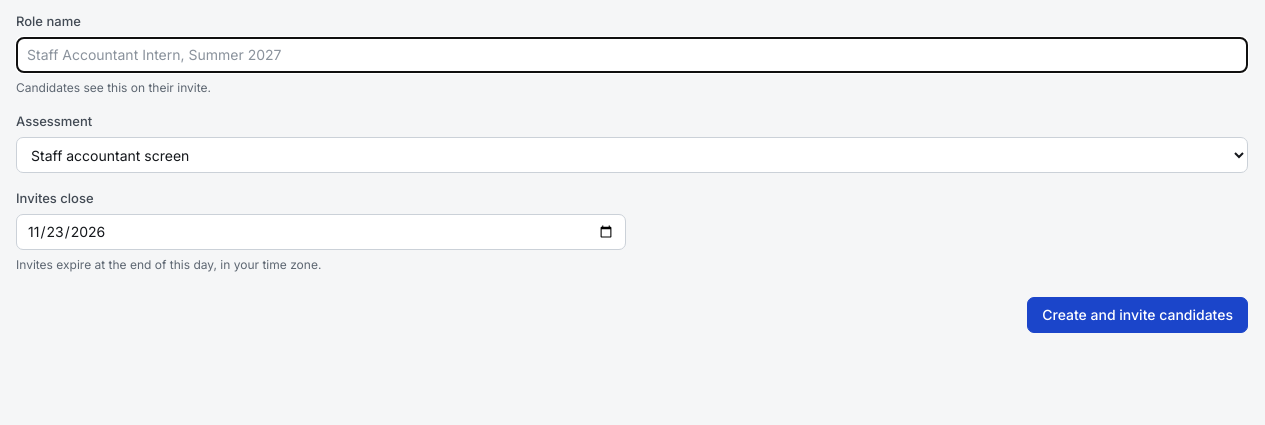
Test case: CreateJobForm › shows validation messages on the role name, assessment and deadline
The image size is (1265, 425).
Type "x" into the field labelled "Role name" at {"x": 632, "y": 55}, box 16,37 -> 1248,73
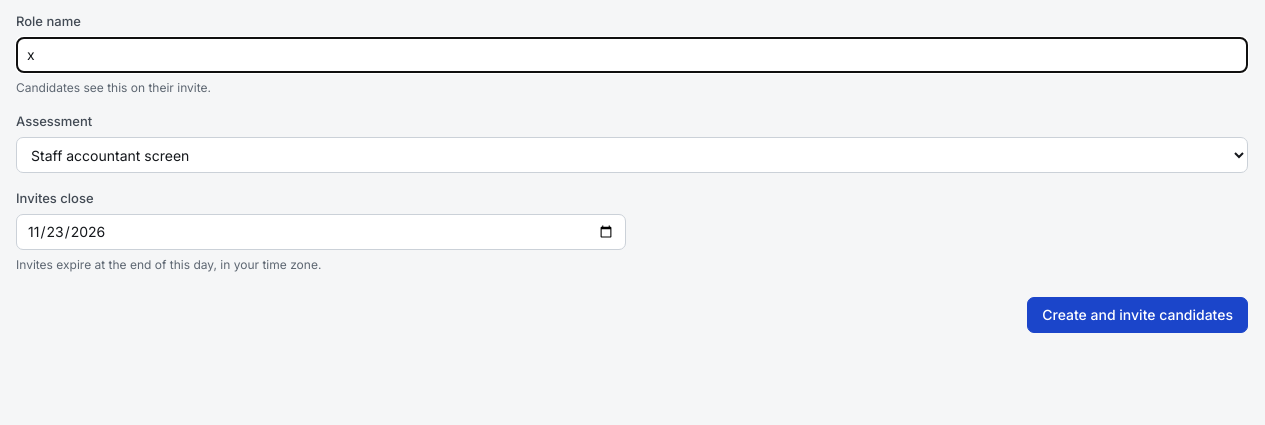
Click the button "Create and invite candidates" at {"x": 1138, "y": 315}, box 1027,297 -> 1248,333
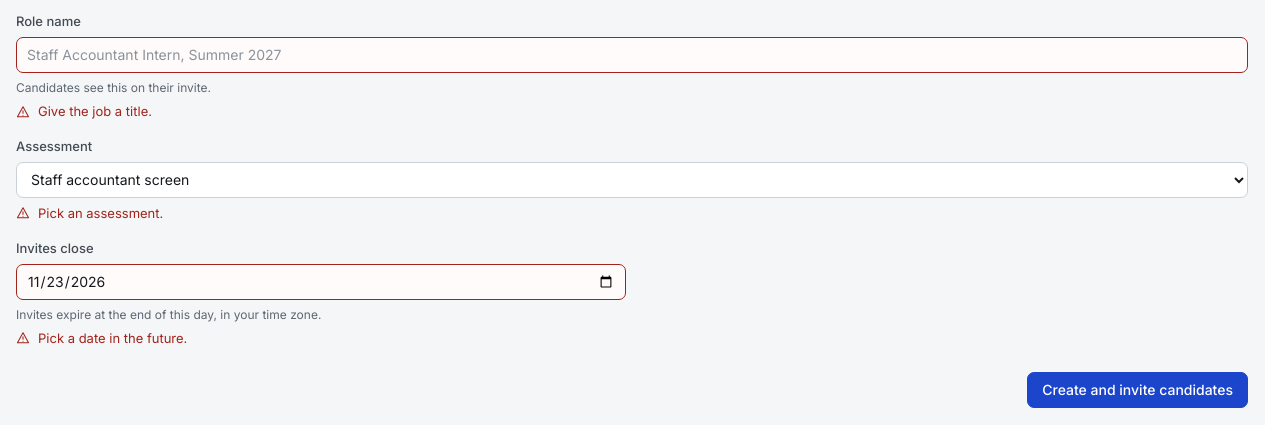
Expected: the text "Pick an assessment." is shown, 16,205 -> 163,221
